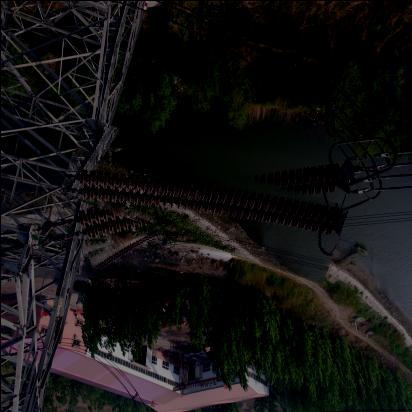insulator: (62, 139, 347, 264), (89, 234, 165, 269)
